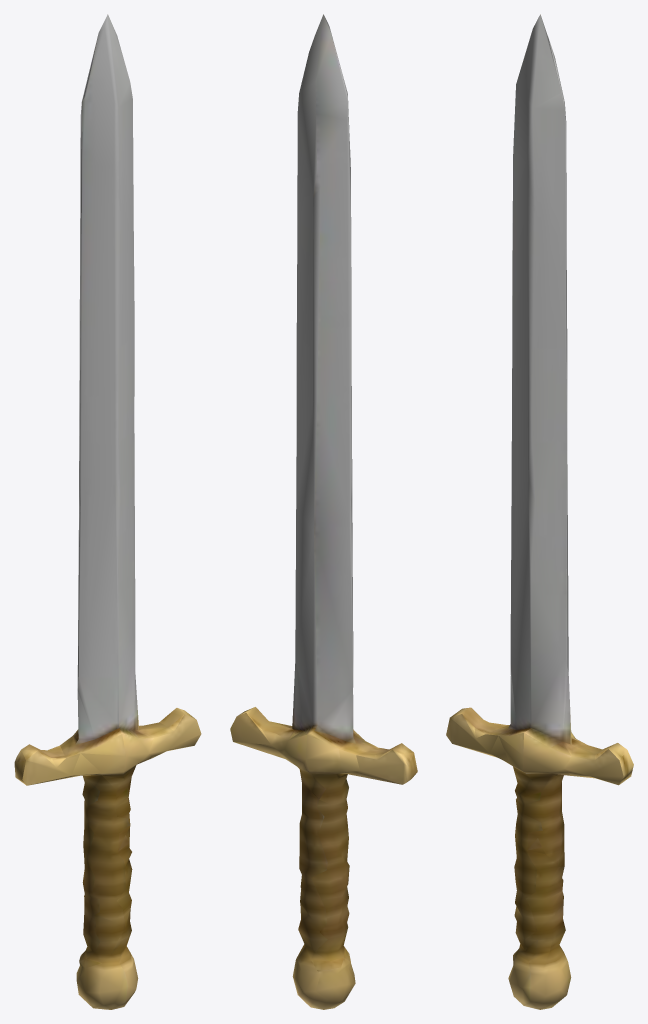
Rendered from wpn_sword3.glb.
3 renders of one model, left to right at view 1: azimuth 30°, elevation 25°; view 2: azimuth 150°, elevation 25°; view 3: azimuth 330°, elevation 25°, orthographic.
Size of the model in its own units: 0.3595 by 1.91 by 0.1257.
Materials: 1 (1 with a texture image).
